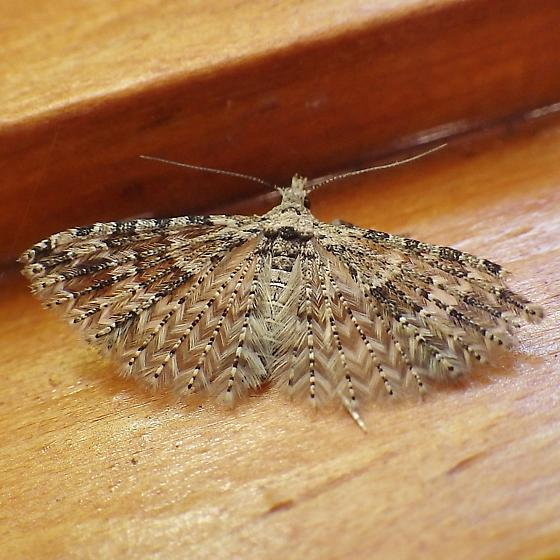Alucitidae: (8, 146, 543, 437)
moth: (6, 144, 541, 435)
